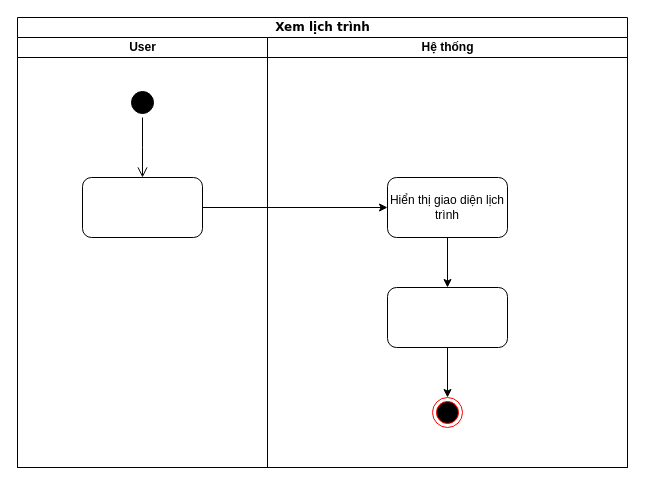
Image size: 645x485. Some labels were removed from this diagram. The shapes that lost their labels are listed below. From the top down, each one's centre as x and y in pixels, then its label:
(x=142, y=207): Chọn mục "Lịch trình"
(x=447, y=317): Hiển thị dữ liệu công việc trong tuần
